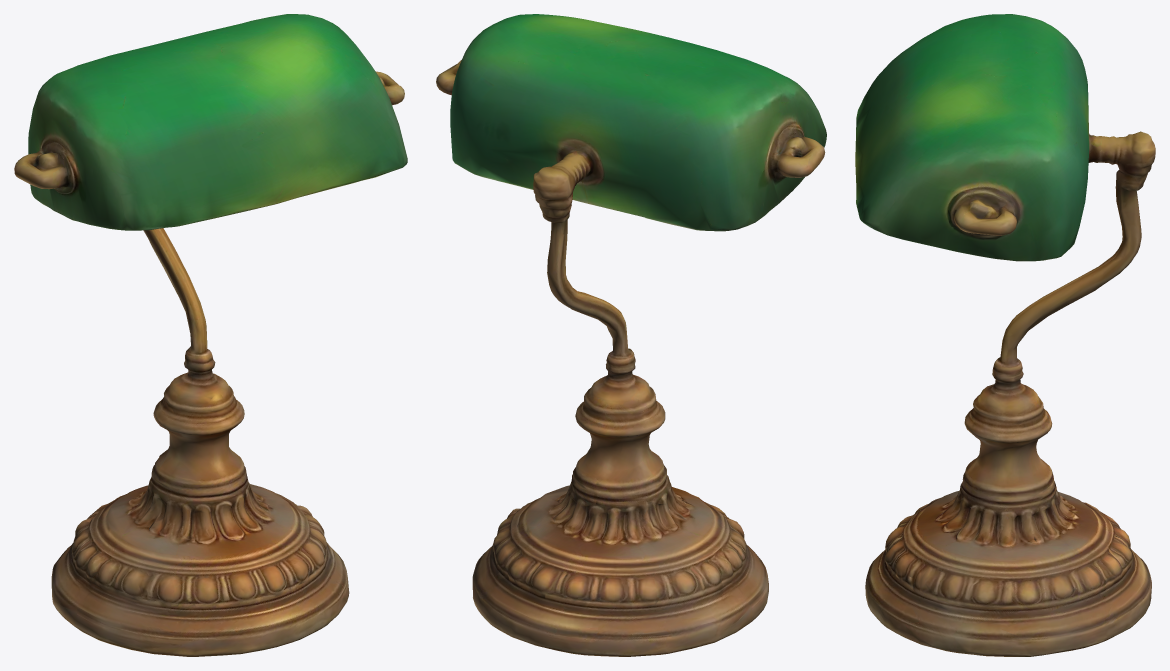
File: luminaria.glb
3 views of the same model, side by side, from view 1: azimuth 30°, elevation 25°; view 2: azimuth 150°, elevation 25°; view 3: azimuth 270°, elevation 25° (orthographic). The views are drawn at different scales.
Bounding box in the file's own units: 1.44 × 2 × 1.03.
Materials: 1 (1 with a texture image).
